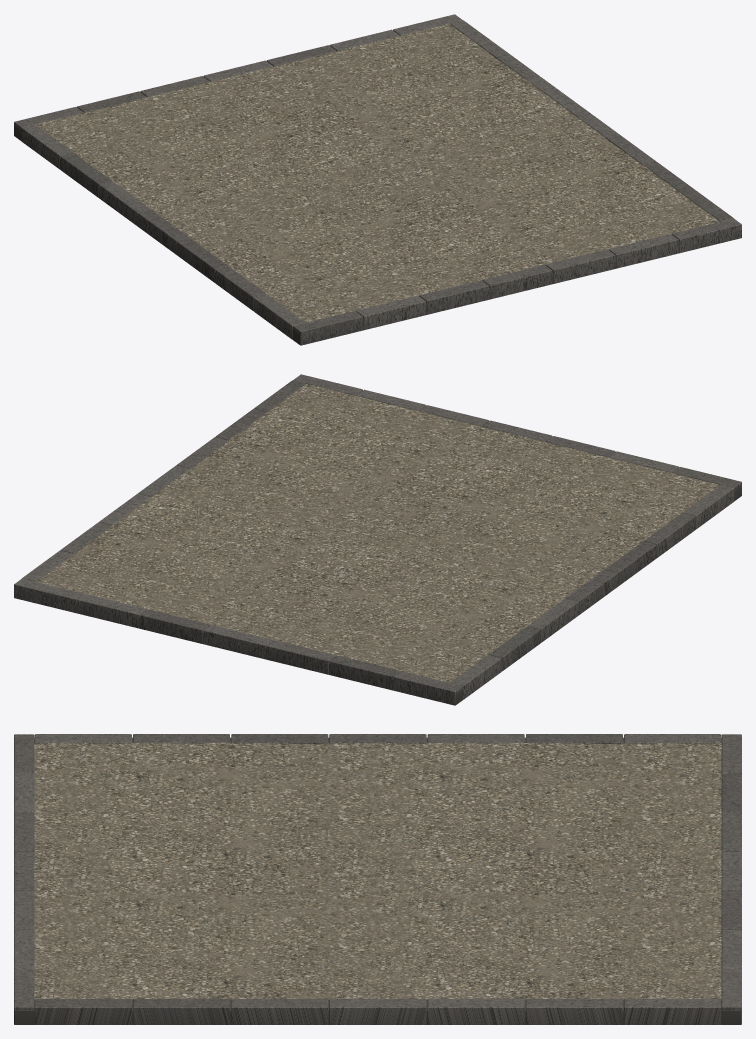
Rendered from floor-gravel-large.glb.
3 renders of one model, top to bottom at view 1: azimuth 30°, elevation 25°; view 2: azimuth 150°, elevation 25°; view 3: azimuth 270°, elevation 25°, orthographic. The views are drawn at different scales.
Parts seen in each view (by area): view 1: Crowned_gravel, Perimeter_granite, Loose_granite_chips; view 2: Crowned_gravel, Perimeter_granite, Loose_granite_chips; view 3: Crowned_gravel, Perimeter_granite, Loose_granite_chips, Compacted_base_and_visible_joints.
Part boxes in pixels (<box>): Crowned_gravel: <box>35,23,719,322</box>; Perimeter_granite: <box>14,14,741,345</box>; Loose_granite_chips: <box>62,29,693,317</box>; Crowned_gravel: <box>36,384,719,682</box>; Perimeter_granite: <box>14,374,741,705</box>; Loose_granite_chips: <box>45,394,710,667</box>; Crowned_gravel: <box>34,742,721,999</box>; Perimeter_granite: <box>14,734,741,1024</box>; Loose_granite_chips: <box>37,744,718,998</box>; Compacted_base_and_visible_joints: <box>14,737,741,1024</box>.
Size of the model in its own units: 3.2 by 0.103 by 3.6.
4 materials, 2 textured.
